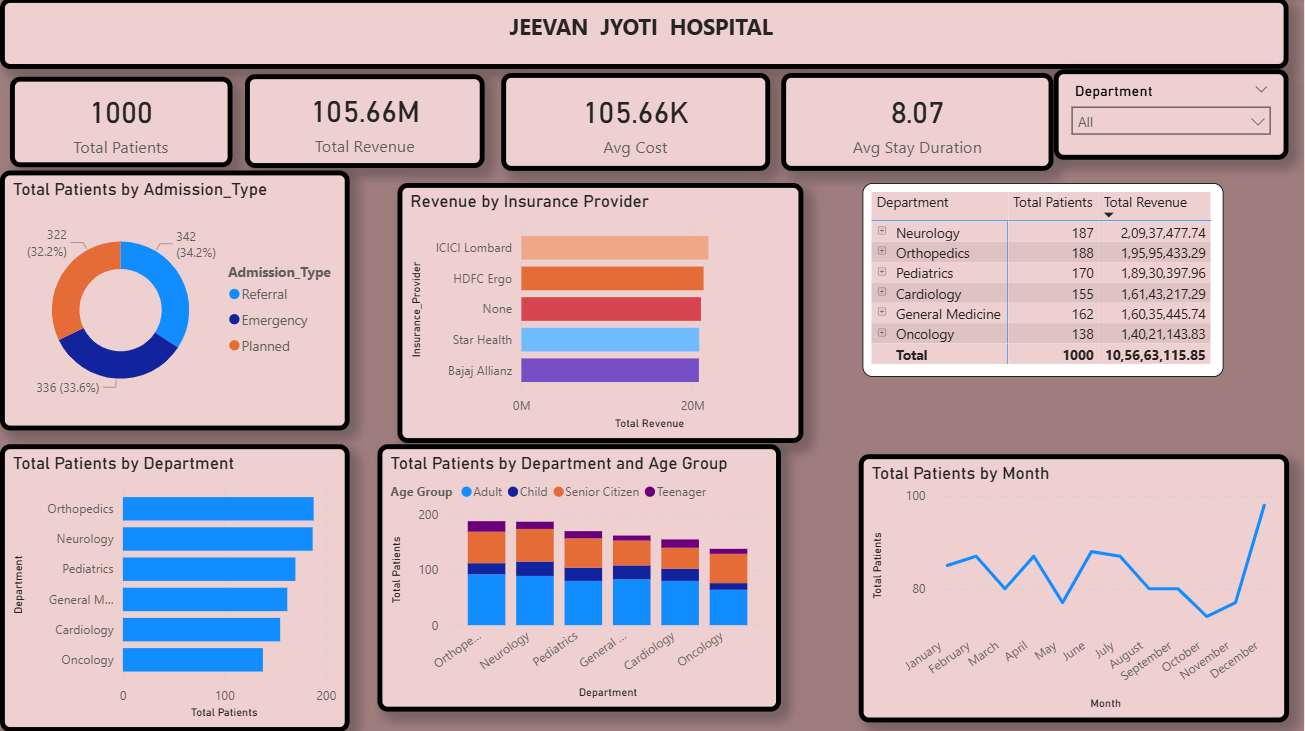

The dashboard page shown, as its layout file describes it:
{"tool":"powerbi","page":{"name":"Page 1","canvas":[1280,720],"ordinal":0},"visuals":[{"type":"textbox","box":[0,0,1265.2,70],"z":1000},{"type":"card","fields":{"Values":["Calendar.Total Patients"]},"box":[9.6,76.8,218.2,89.2],"z":2000},{"type":"card","fields":{"Values":["Calendar.Total Revenue"]},"box":[240.5,74.8,235.6,92],"z":3000},{"type":"card","fields":{"Values":["Calendar.Avg Cost"]},"box":[492,73.6,263.8,95.7],"z":4000},{"type":"card","fields":{"Values":["Calendar.Avg Stay Duration"]},"box":[766.9,73.6,267.5,95.7],"z":5000},{"type":"donutChart","fields":{"Category":["healthcare_analytics_dataset.Admission_Type"],"Y":["Calendar.Total Patients"]},"box":[0,168.8,343.1,255.2],"z":6000},{"type":"clusteredBarChart","fields":{"Y":["Calendar.Total Patients"],"Category":["healthcare_analytics_dataset.Department"]},"box":[0,437.7,343.1,282.7],"z":7000},{"type":"clusteredBarChart","title":"Revenue by Insurance Provider","fields":{"Category":["healthcare_analytics_dataset.Insurance_Provider"],"Y":["Calendar.Total Revenue"]},"box":[390.2,181.6,398.8,255.2],"z":8000},{"type":"slicer","fields":{"Values":["healthcare_analytics_dataset.Department"]},"box":[1034.7,70,230.5,89.2],"z":9000},{"type":"columnChart","fields":{"Category":["healthcare_analytics_dataset.Department"],"Y":["Calendar.Total Patients"],"Series":["healthcare_analytics_dataset.Age Group"]},"box":[370.6,438,396.3,262.6],"z":10000},{"type":"lineChart","fields":{"Category":["healthcare_analytics_dataset.Admission_Date.Variation.Date Hierarchy.Month"],"Y":["Calendar.Total Patients"]},"box":[842.5,447.3,422.6,263.5],"z":11000},{"type":"pivotTable","fields":{"Rows":["healthcare_analytics_dataset.Department","healthcare_analytics_dataset.Diagnosis"],"Values":["Calendar.Total Patients","Calendar.Total Revenue"]},"box":[846.7,181.1,354,190.7],"z":12000}]}

Visuals, with their boxes in screenshot pixels (x1, y1, x2, y2), scaled from the page's 1280x720 canvas onto the 1305x731 screenshot:
textbox: 0 0 1290 71
card - Calendar.Total Patients: 10 78 232 169
card - Calendar.Total Revenue: 245 76 485 169
card - Calendar.Avg Cost: 502 75 771 172
card - Calendar.Avg Stay Duration: 782 75 1055 172
donutChart - healthcare_analytics_dataset.Admission_Type x Calendar.Total Patients: 0 171 350 430
clusteredBarChart - Calendar.Total Patients x healthcare_analytics_dataset.Department: 0 444 350 730
"Revenue by Insurance Provider" clusteredBarChart: 398 184 804 443
slicer - healthcare_analytics_dataset.Department: 1055 71 1290 162
columnChart - healthcare_analytics_dataset.Department x Calendar.Total Patients: 378 445 782 711
lineChart - healthcare_analytics_dataset.Admission_Date.Variation.Date Hierarchy.Month x Calendar.Total Patients: 859 454 1290 722
pivotTable - healthcare_analytics_dataset.Department x healthcare_analytics_dataset.Diagnosis: 863 184 1224 377
